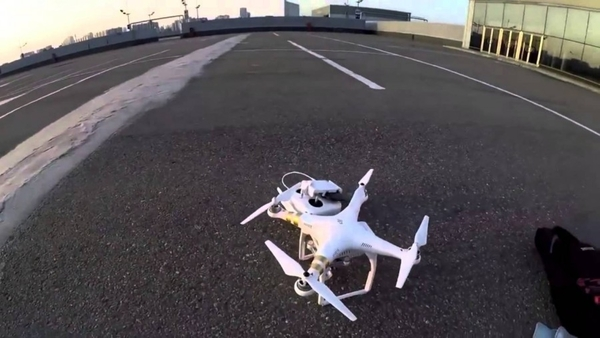drone: (239, 167, 432, 324)
